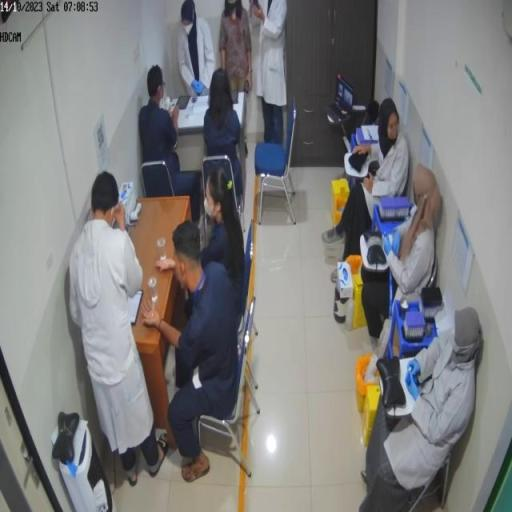person: (70, 172, 170, 487), (144, 220, 241, 483), (360, 307, 485, 509), (360, 160, 443, 337), (323, 100, 411, 261), (139, 66, 200, 221), (200, 163, 246, 295), (204, 68, 244, 215), (252, 2, 289, 146), (178, 1, 217, 99), (218, 1, 253, 103)
